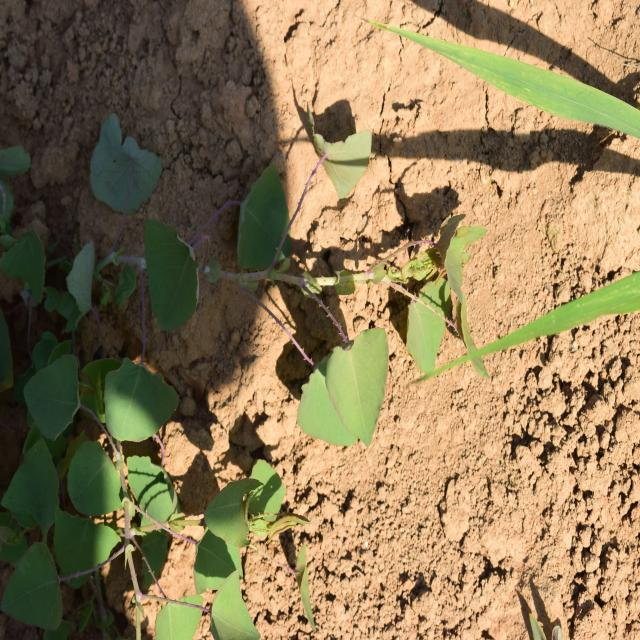Asiatic_Smartweed: (254, 104, 473, 471), (0, 364, 174, 612)
